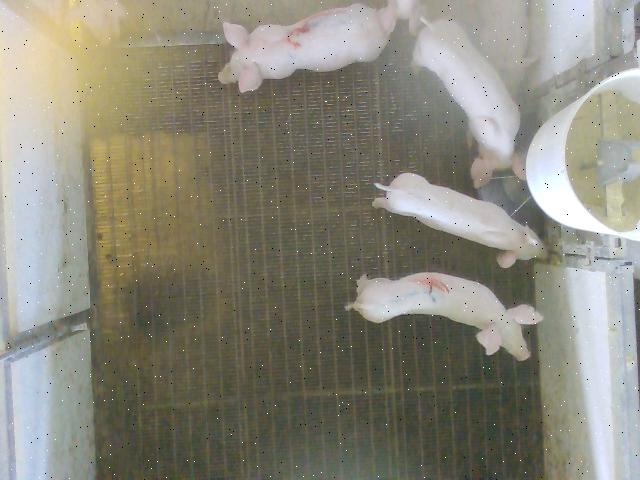pig-3: (220, 4, 389, 92)
pig-4: (345, 272, 542, 361)
